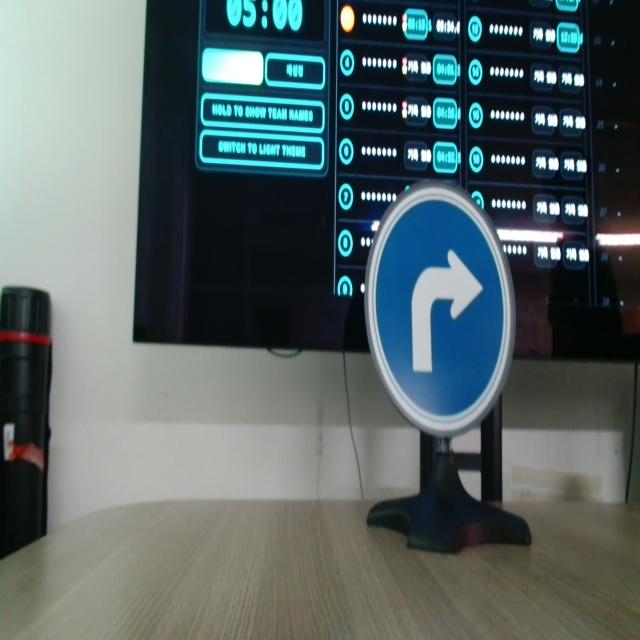right_dierection: (361, 173, 529, 468)
